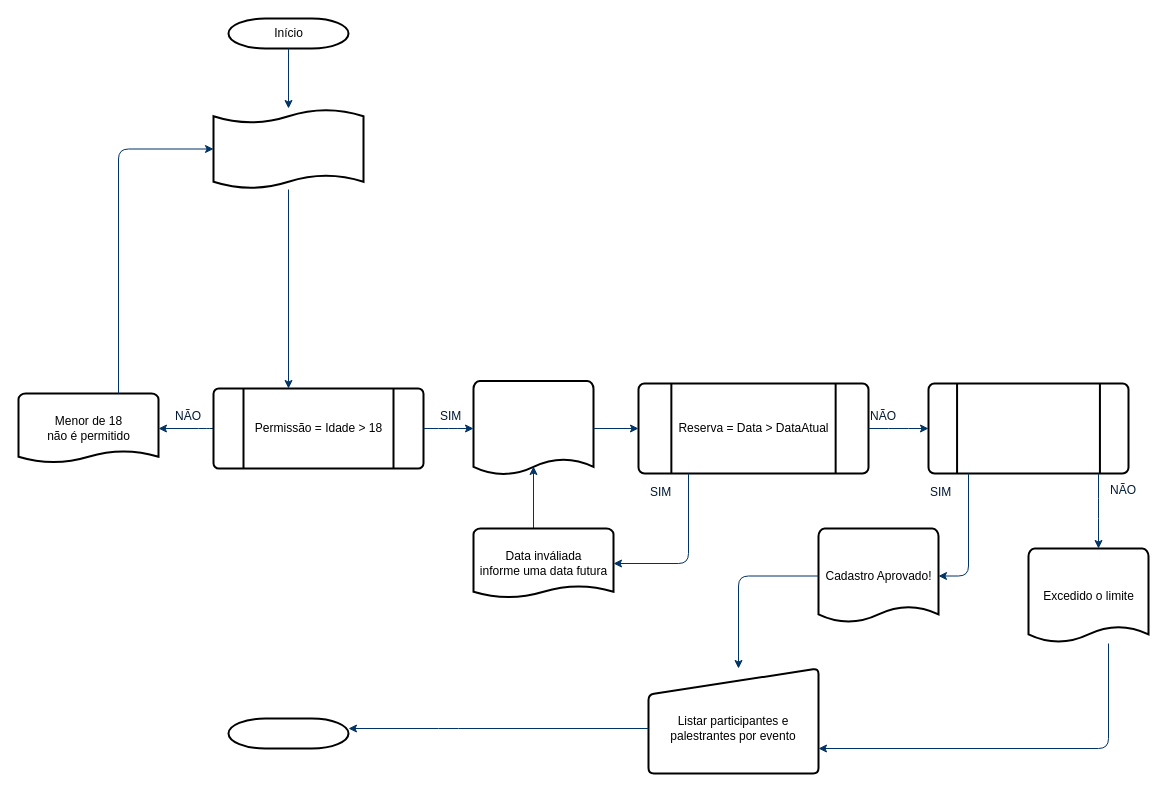
Image size: 1166x791. Some labels were removed from this diagram. The shapes that lost their labels are listed below. From the top down, each one's box as (x1, y1, x2, y2) in pixels, then its label:
(212, 107, 364, 190): Informe sua Idade
(472, 380, 594, 476): Informe a data reserva do evento
(927, 382, 1129, 474): LotMax = Particip <= 100
(227, 717, 349, 749): FIM
